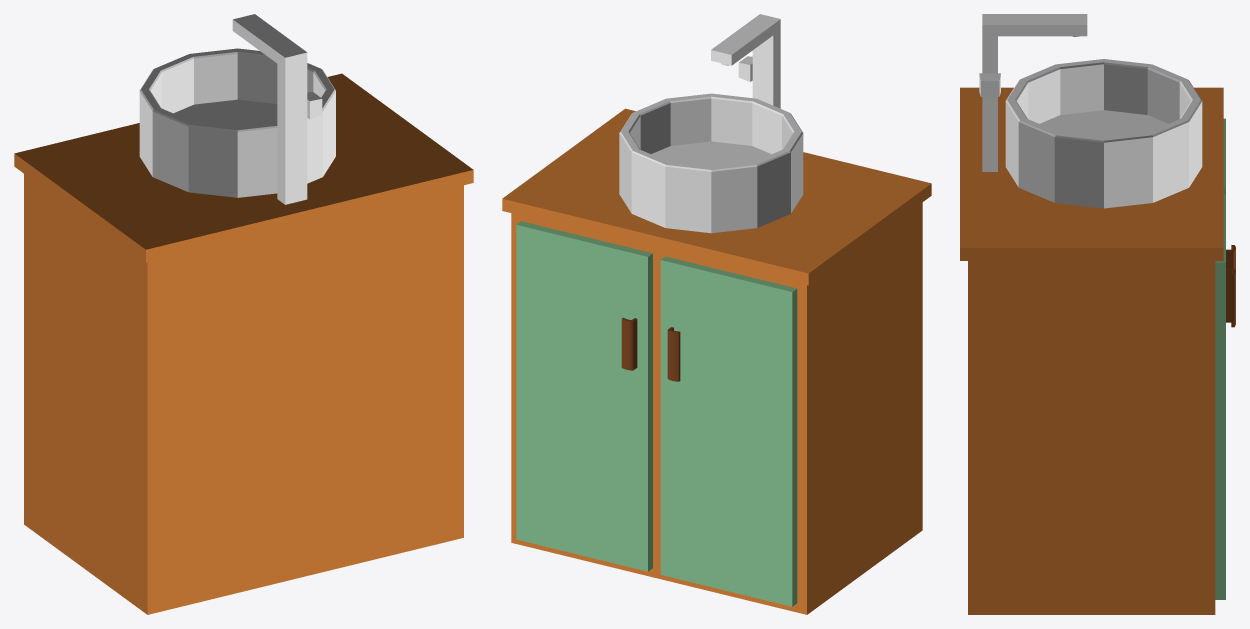
File: Wash Basin.fbx
3 views of the same model, side by side, from view 1: azimuth 30°, elevation 25°; view 2: azimuth 150°, elevation 25°; view 3: azimuth 270°, elevation 25° (orthographic). The views are drawn at different scales.
Parts seen in each view (by area): view 1: Node 0; view 2: Node 0, Node 1, Node 2; view 3: Node 0, Node 2, Node 3, Node 1.
Boxes of the visible parts, <box> form: Node 0: <box>14,14,473,614</box>; Node 0: <box>502,14,931,614</box>; Node 1: <box>660,256,797,606</box>; Node 2: <box>516,221,652,571</box>; Node 0: <box>960,14,1223,614</box>; Node 2: <box>1215,194,1235,599</box>; Node 3: <box>979,73,1000,96</box>; Node 1: <box>1223,118,1235,270</box>.
Size of the model in its own units: 0.63 by 1.3 by 0.8647.
